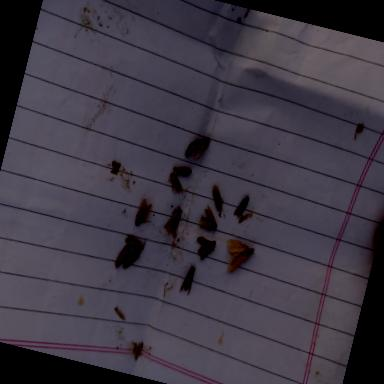pbw: (195, 202, 220, 234), (162, 203, 183, 236), (134, 198, 156, 228), (178, 260, 196, 296), (188, 133, 211, 160), (162, 172, 186, 196), (195, 236, 216, 262), (114, 240, 132, 270), (207, 184, 226, 211), (122, 233, 146, 254), (121, 249, 140, 272), (232, 193, 249, 218), (182, 136, 198, 161), (172, 164, 192, 177), (195, 234, 212, 246)
